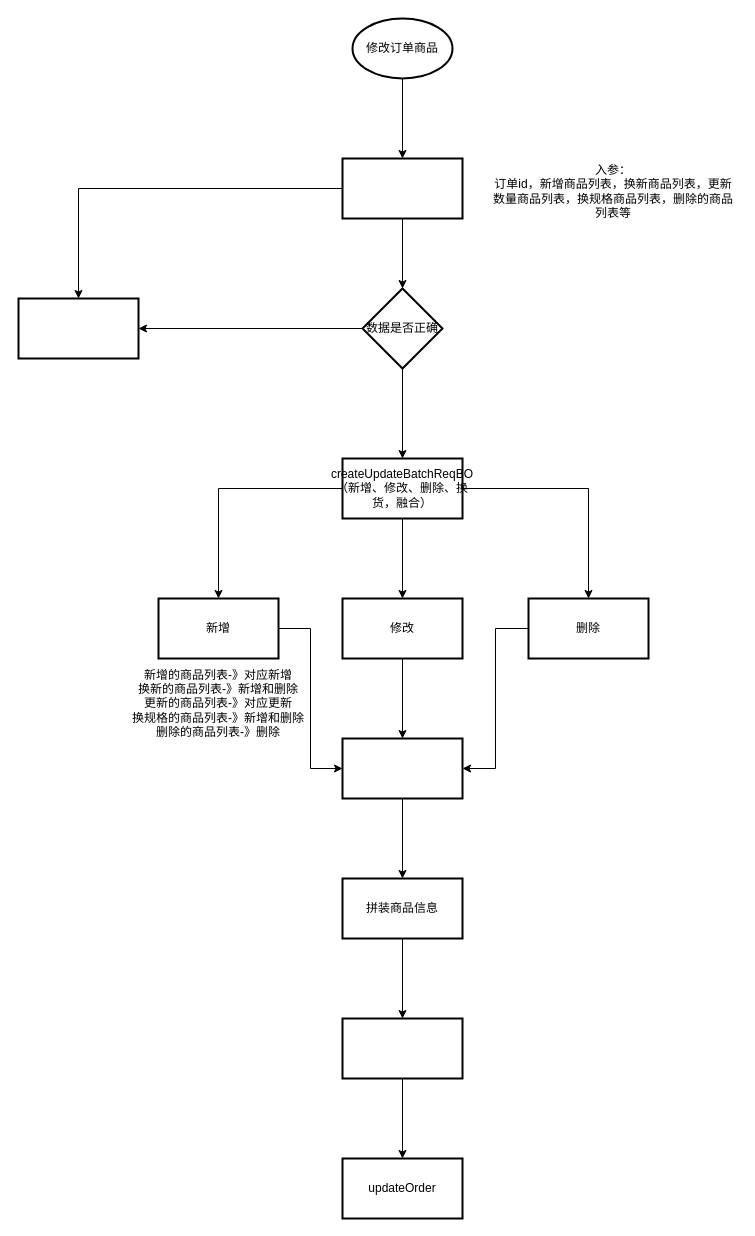
This 755x1236 diagram has some shape labels left out. Here are the shapes that lost their labels. From the top down, the centre of each, then its label:
At (402,188): "各种数据校验".
At (78,328): "报错，结束".
At (402,768): "getUpdateBatchBO".
At (402,1048): "代发订单设置支付相关信息".
